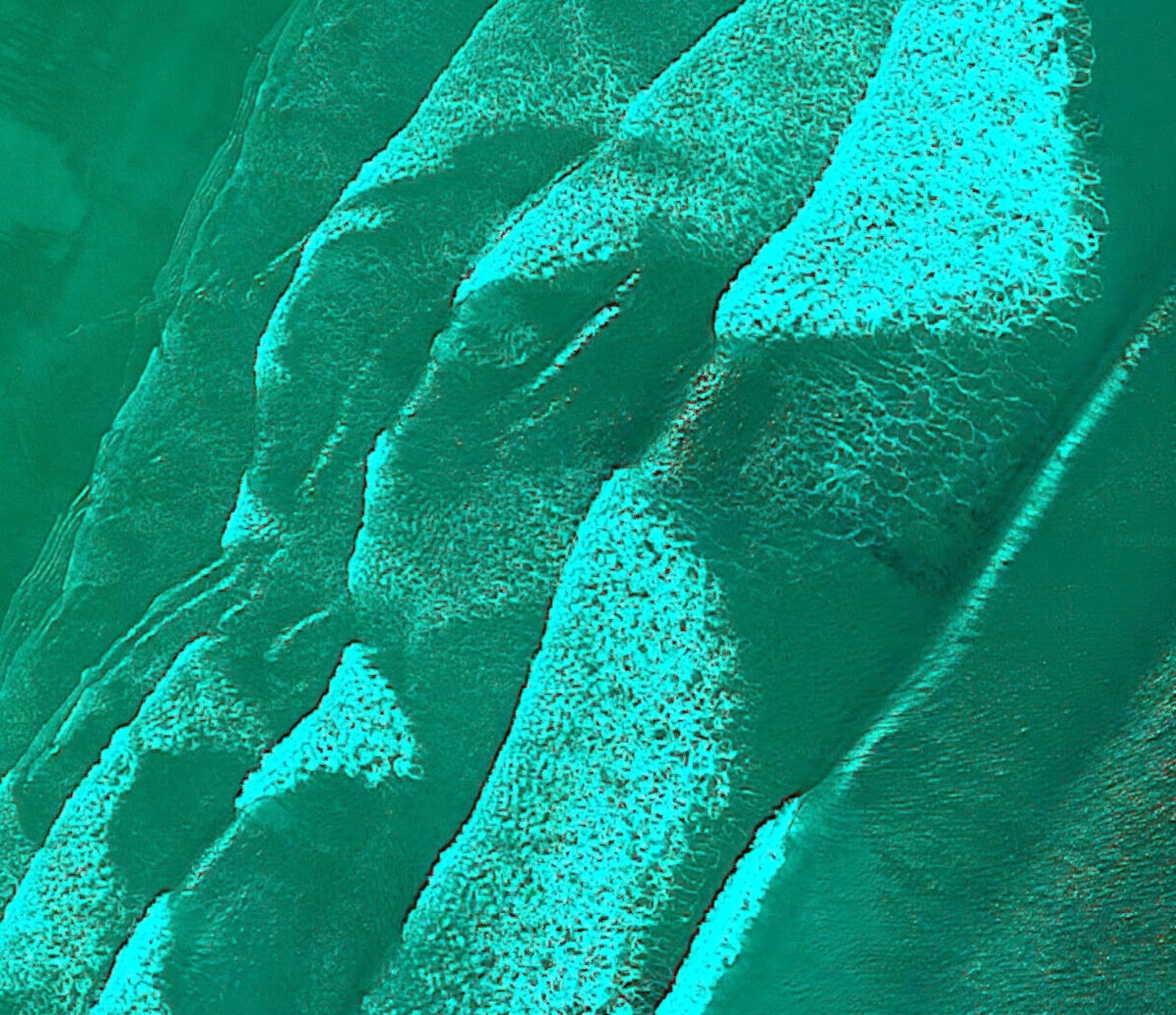rip_current: (195, 173, 987, 614)
